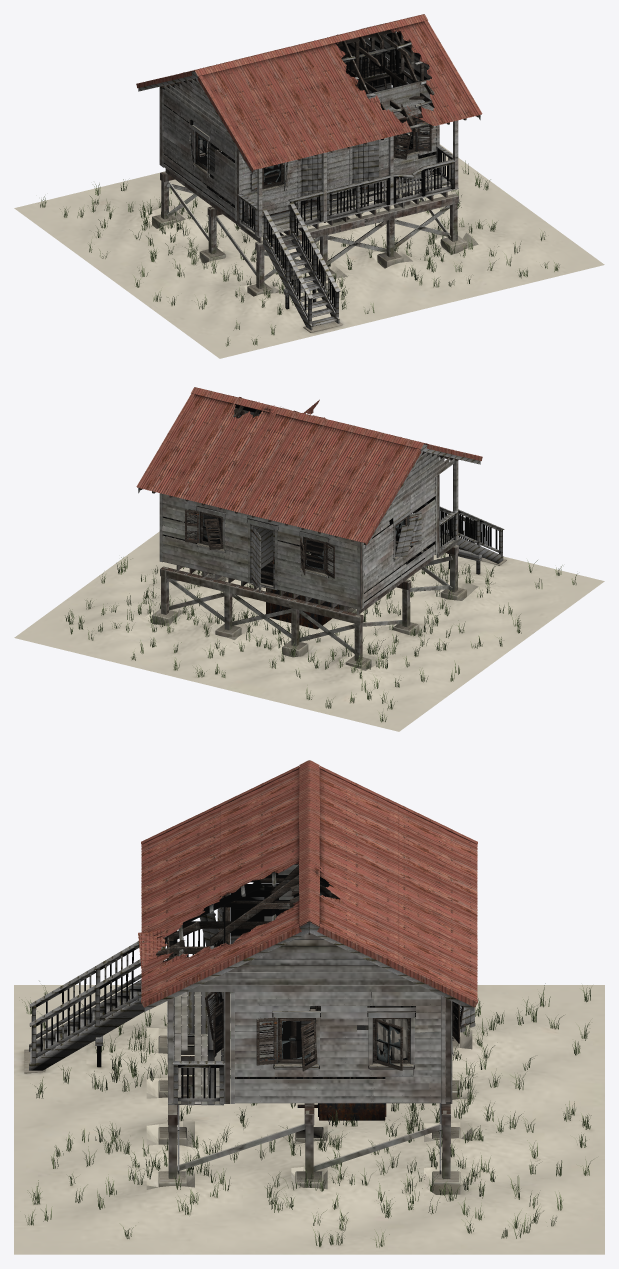
File: CAB_2_pilotes.glb
3 renders of one model, top to bottom at view 1: azimuth 30°, elevation 25°; view 2: azimuth 150°, elevation 25°; view 3: azimuth 270°, elevation 25°, orthographic. The views are drawn at different scales.
Visible parts, largest first — view 1: CAB_2_pilotes_Sand, CAB_2_pilotes_Roof, CAB_2_pilotes_Details, CAB_2_pilotes_WallsMain, CAB_2_pilotes_WallsRest, CAB_2_pilotes_Interior, CAB_2_pilotes_SkirtLoose; view 2: CAB_2_pilotes_Sand, CAB_2_pilotes_Roof, CAB_2_pilotes_WallsRest, CAB_2_pilotes_Details, CAB_2_pilotes_SkirtLoose, CAB_2_pilotes_Interior; view 3: CAB_2_pilotes_Sand, CAB_2_pilotes_Roof, CAB_2_pilotes_WallsRest, CAB_2_pilotes_Details, CAB_2_pilotes_SkirtLoose, CAB_2_pilotes_Interior, CAB_2_pilotes_WallsMain.
Part boxes in pixels (box(x1,y1,x2,y2)): CAB_2_pilotes_Sand: box(14, 133, 604, 358); CAB_2_pilotes_Roof: box(136, 14, 482, 175); CAB_2_pilotes_Details: box(189, 46, 455, 332); CAB_2_pilotes_WallsMain: box(160, 33, 466, 295); CAB_2_pilotes_WallsRest: box(152, 34, 466, 296); CAB_2_pilotes_Interior: box(153, 31, 465, 292); CAB_2_pilotes_SkirtLoose: box(40, 160, 559, 346); CAB_2_pilotes_Sand: box(14, 531, 604, 731); CAB_2_pilotes_Roof: box(136, 387, 482, 548); CAB_2_pilotes_WallsRest: box(152, 414, 466, 668); CAB_2_pilotes_Details: box(180, 506, 506, 629); CAB_2_pilotes_SkirtLoose: box(65, 553, 577, 722); CAB_2_pilotes_Interior: box(153, 410, 465, 665); CAB_2_pilotes_Sand: box(14, 985, 604, 1254); CAB_2_pilotes_Roof: box(138, 760, 477, 1011); CAB_2_pilotes_WallsRest: box(159, 864, 460, 1194); CAB_2_pilotes_Details: box(24, 883, 475, 1120); CAB_2_pilotes_SkirtLoose: box(19, 981, 593, 1247); CAB_2_pilotes_Interior: box(160, 864, 458, 1182); CAB_2_pilotes_WallsMain: box(158, 938, 450, 1190).
Size of the model in its own units: 13.45 by 6.64 by 12.45.
12 materials, 10 textured.
